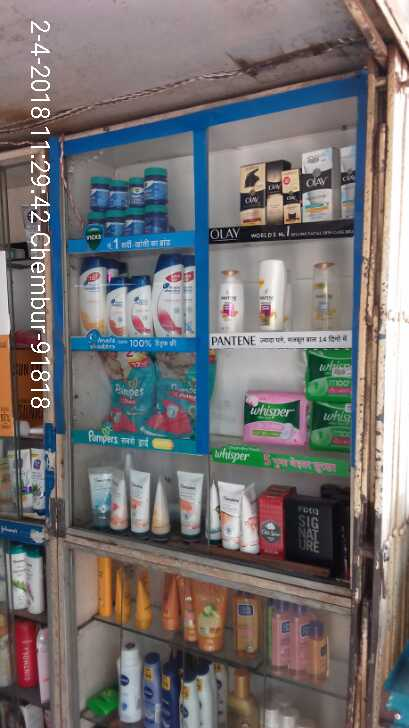vicks: (80, 159, 172, 239)
